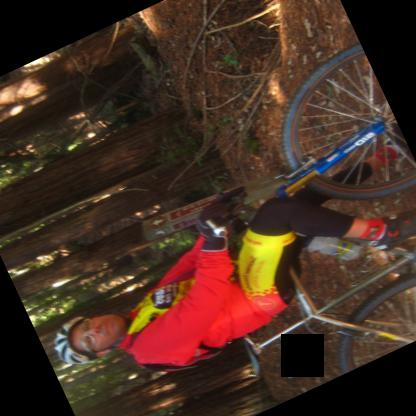backpack: (136, 337, 252, 373)
